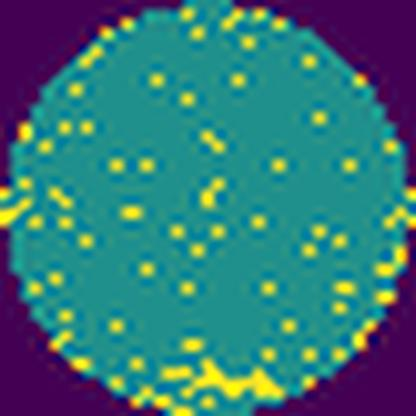Loc: (178, 358, 282, 398)
